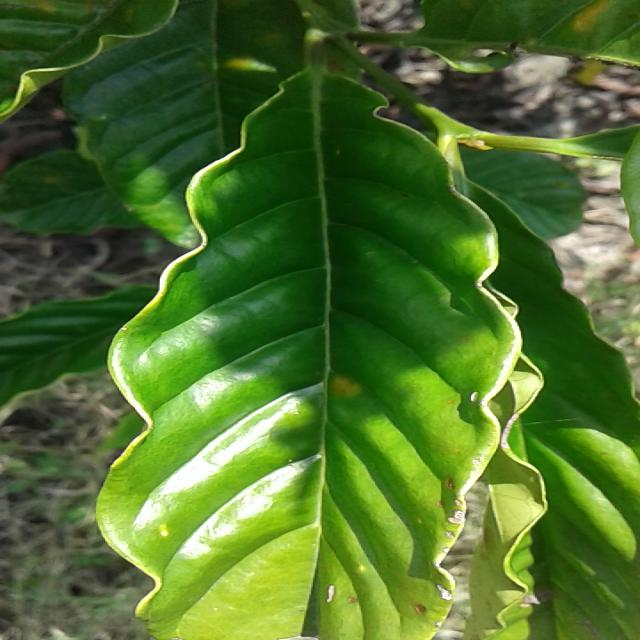Enfermedad-Roya: (94, 70, 521, 640)
